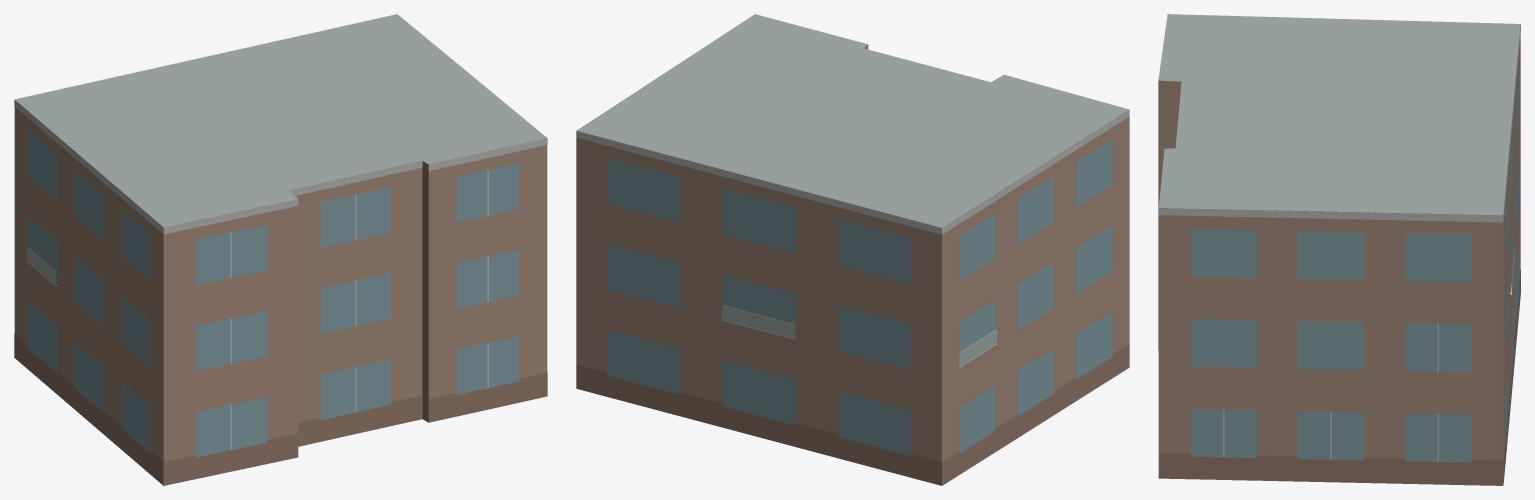
The model's file is survey-upis-32602698.glb.
3 views of the same model, side by side, from view 1: azimuth 30°, elevation 25°; view 2: azimuth 150°, elevation 25°; view 3: azimuth 270°, elevation 25° (orthographic). The views are drawn at different scales.
Visible parts, largest first — view 1: survey-upis-32602698.tmp; view 2: survey-upis-32602698.tmp; view 3: survey-upis-32602698.tmp.
Part boxes in pixels (bbox=[...]): survey-upis-32602698.tmp: bbox=[14, 14, 547, 485]; survey-upis-32602698.tmp: bbox=[576, 14, 1129, 485]; survey-upis-32602698.tmp: bbox=[1158, 14, 1520, 485].
Bounding box in the file's own units: 14.61 × 9.15 × 11.12.
